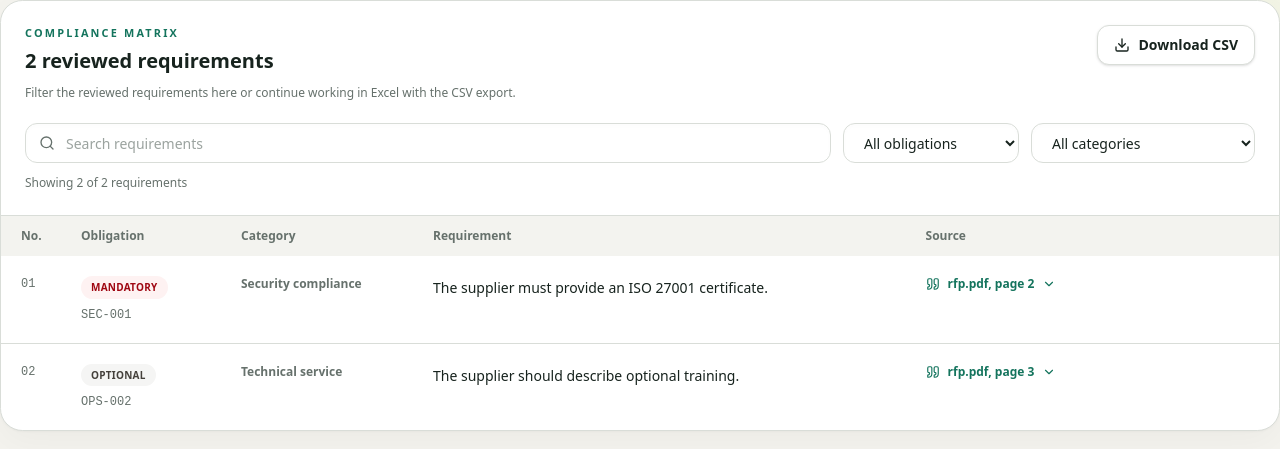
Scenario: ComplianceMatrix › filters reviewed requirements without changing their stable matrix numbers
Expected: the text "Showing 2 of 2 requirements" is shown, 25,174 -> 187,191
Select "Mandatory only" in the 1st dropdown named "Filter by obligation" at {"x": 931, "y": 143}, box 843,123 -> 1019,163
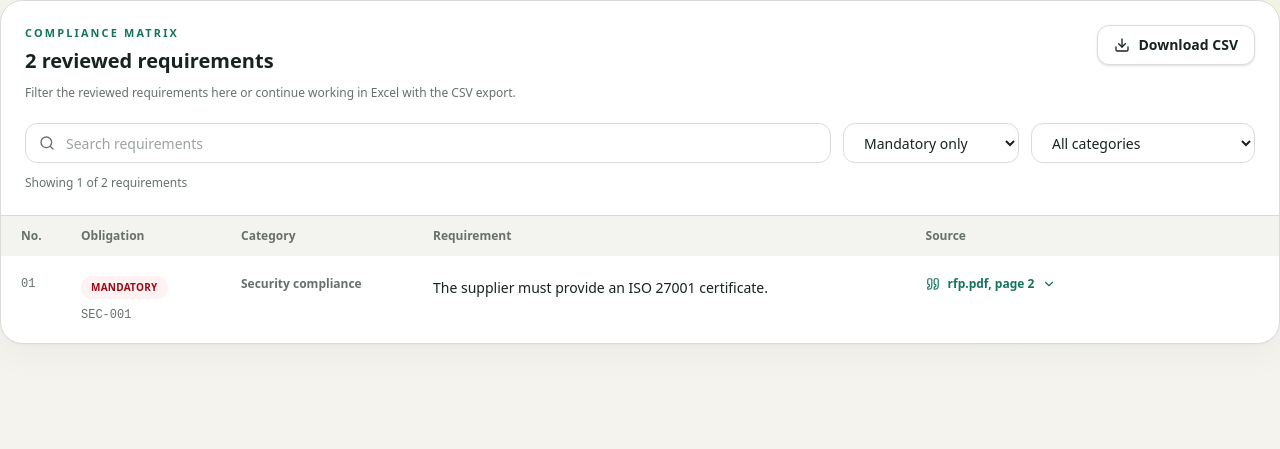
Expected: the text "The supplier must provide an ISO 27001 certificate." is shown, 433,278 -> 768,297
Expected: the text "Showing 1 of 2 requirements" is shown, 25,174 -> 187,191
Expected: the text "The supplier should describe optional training." is gone
